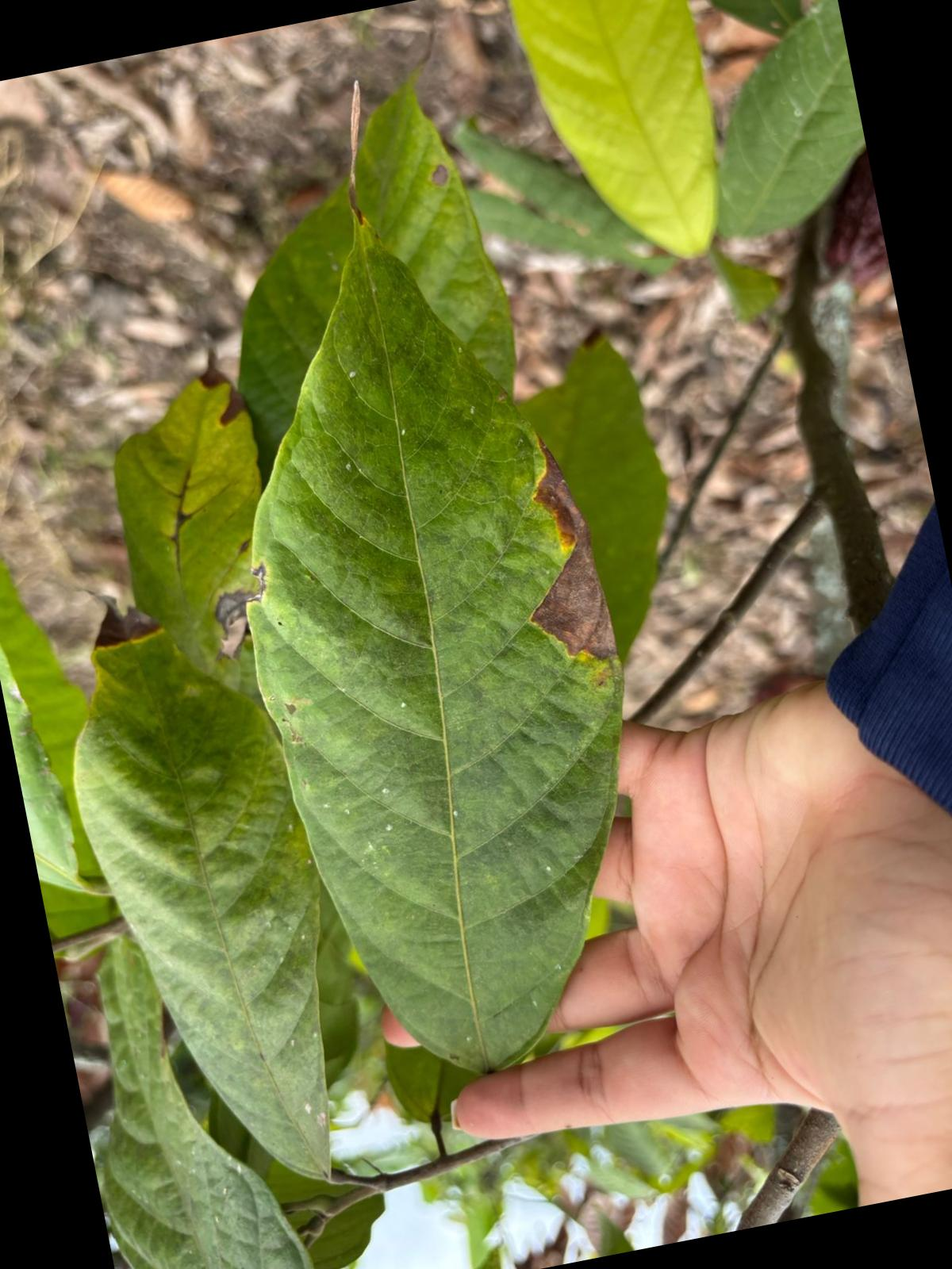Potasio: (250, 215, 622, 1070), (75, 611, 331, 1176)
